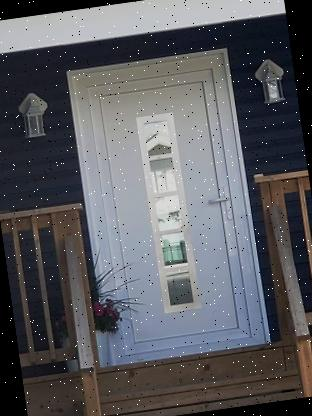door: (61, 43, 276, 368)
